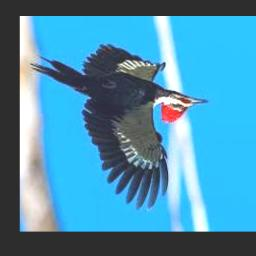Woodpecker: (30, 45, 208, 211)
